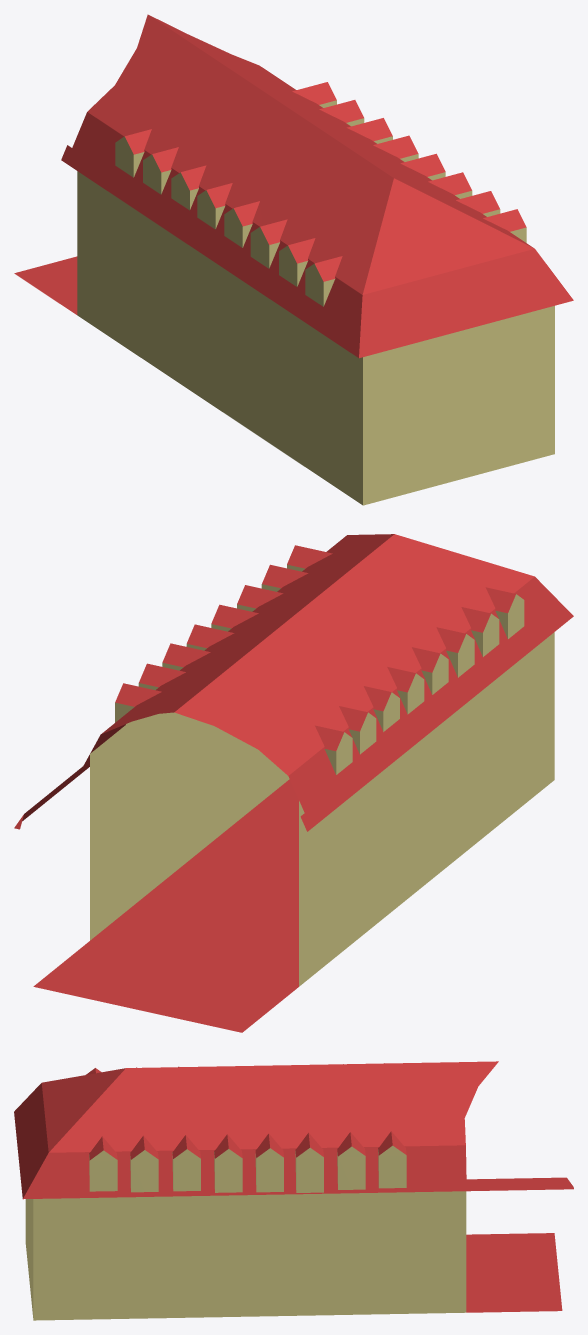
The picture shows the model from 3 angles, top to bottom: view 1: azimuth 30°, elevation 25°; view 2: azimuth 150°, elevation 25°; view 3: azimuth 270°, elevation 25°; orthographic projection. The views are drawn at different scales.
Bounding box in the file's own units: 15.23 × 37.71 × 15.69.
